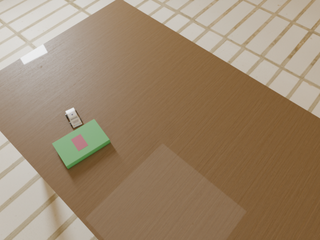book: (52, 119, 110, 169)
toy_car: (65, 108, 82, 128)
